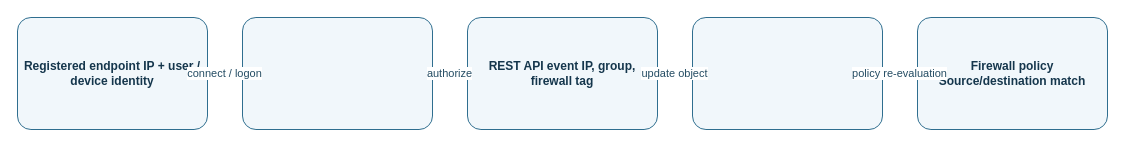
Image size: 1125x147. Some labels were removed from this diagram. Here are the shapes that lost their labels. From the top down, the centre of each, then its label:
At point 337,73: "FortiNAC-F Policy + tag decision".
At point 787,73: "FortiGate dynamic address Tag / group maps to IP".
